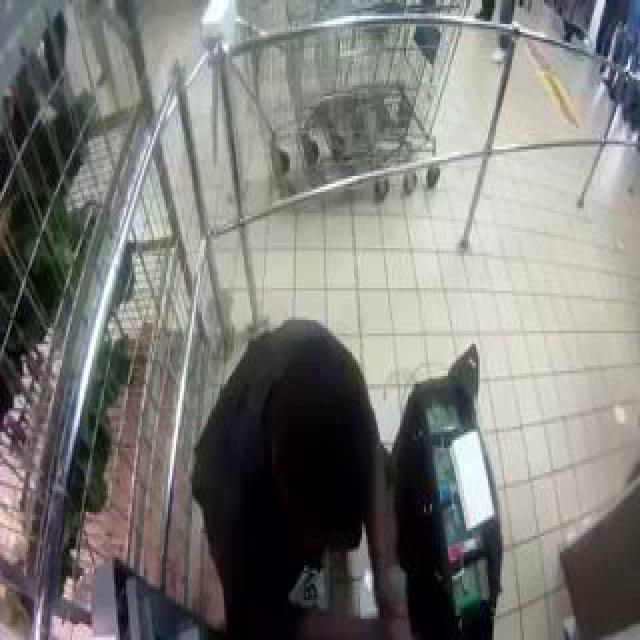shooting: (162, 55, 553, 640)
